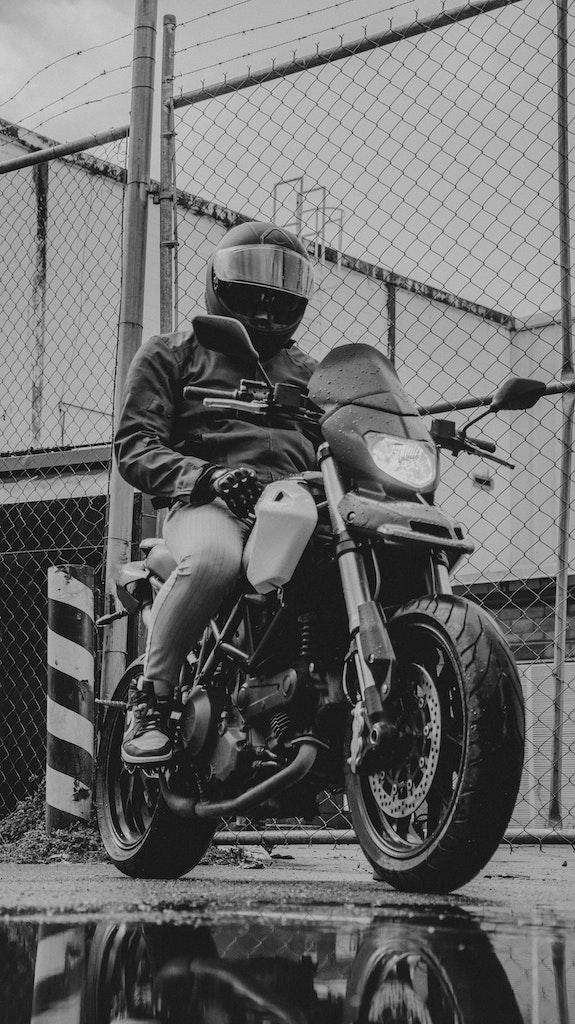helmet: (203, 220, 315, 363)
